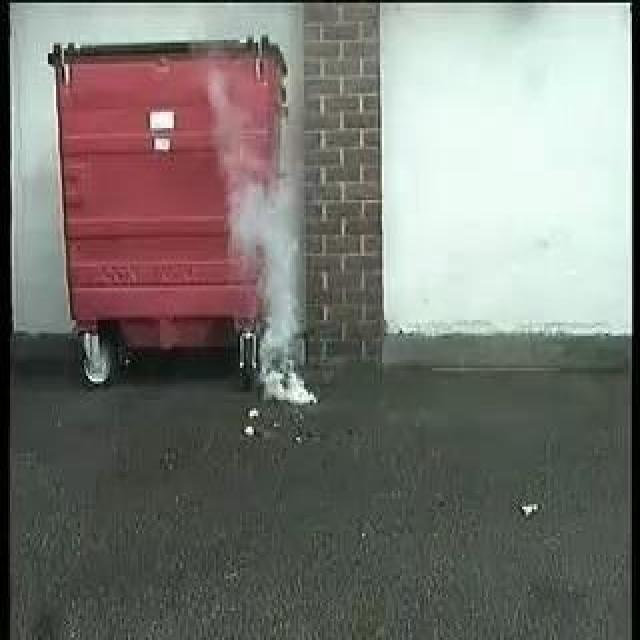Smoke: (225, 148, 313, 409)
